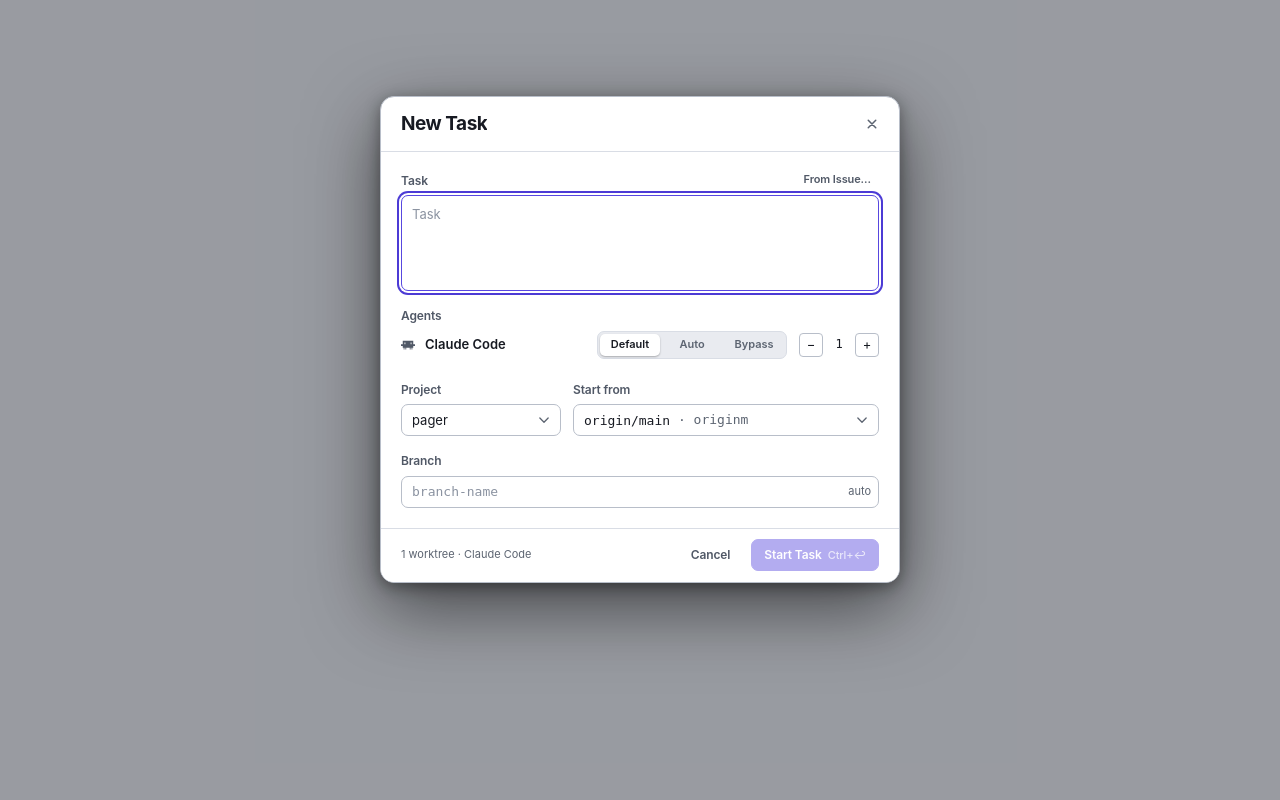
Test: how it reads › labels the branch it will make, following the task until typed over
expect the field labelled "Branch" is empty: met, box [401,476,879,508]
Step 1. Type "Rewrite the pager" into the text box labelled "Task" → [640, 243], box [401,195,879,291]
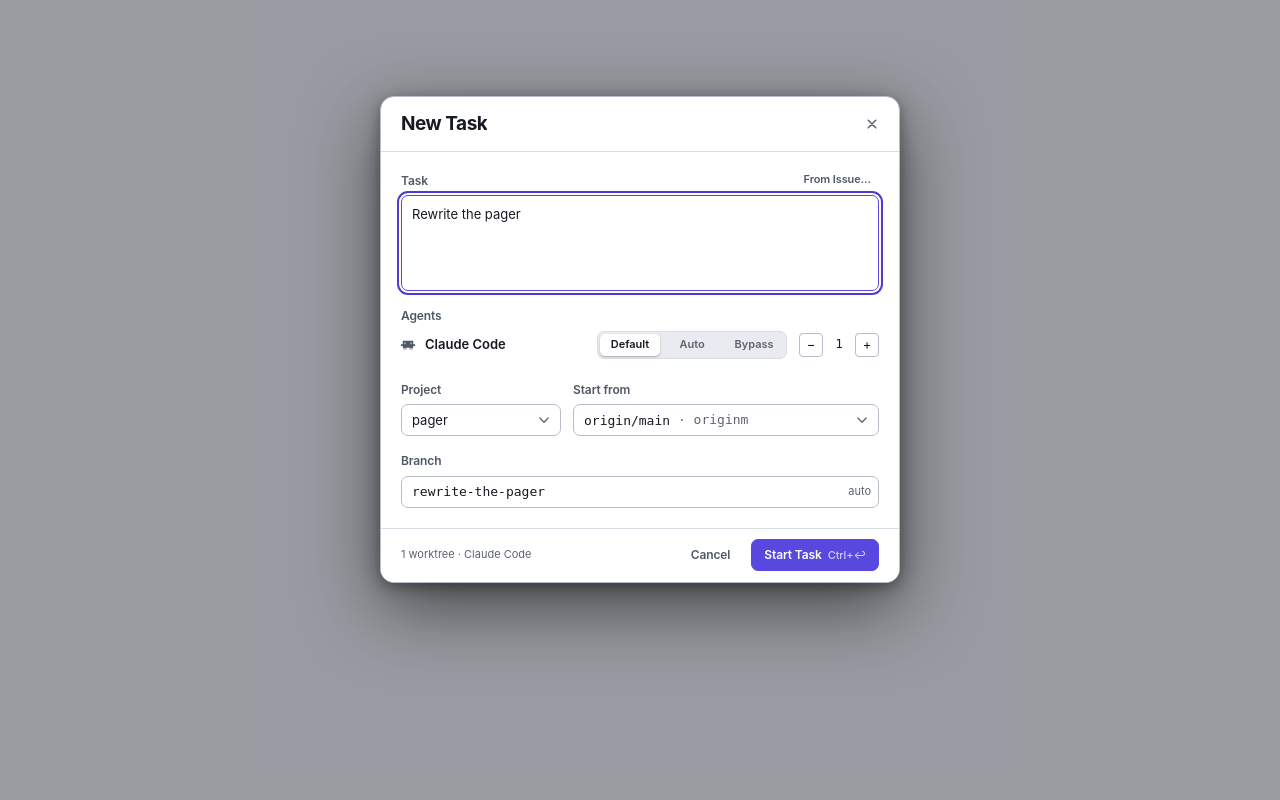
expect the text "auto" is shown: met, box [848,484,871,500]
expect the field labelled "Branch" holds "rewrite-the-pager": met, box [401,476,879,508]
